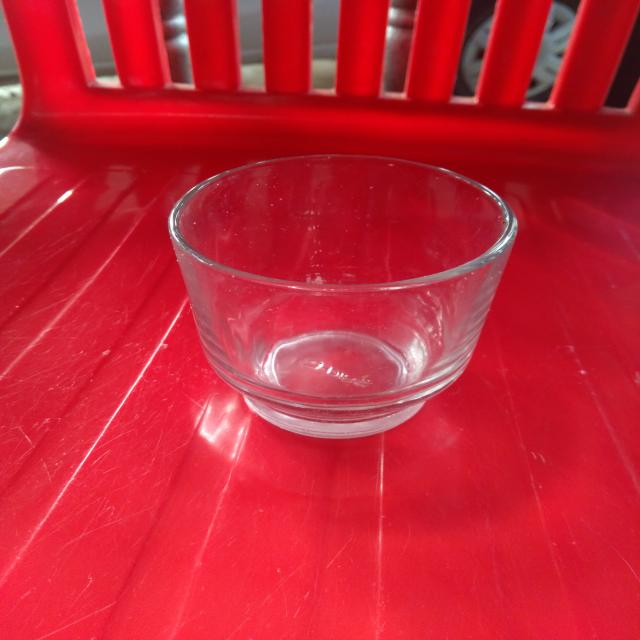Glass: (163, 149, 522, 441)
